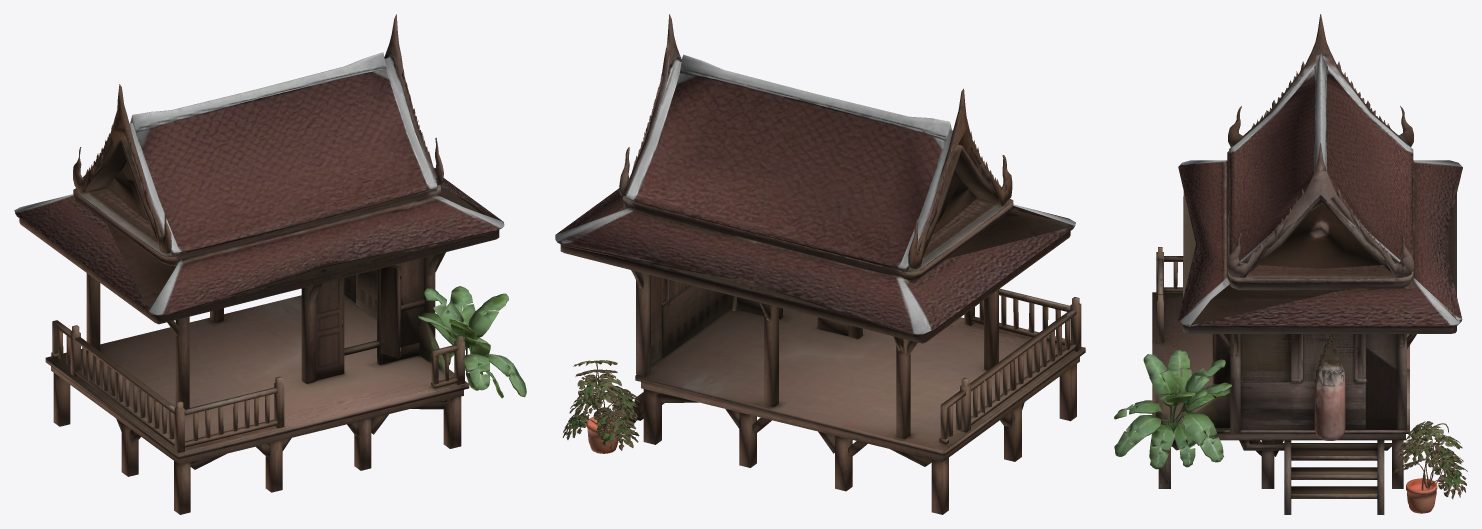
Rendered from house-japao.glb.
3 renders of one model, left to right at view 1: azimuth 30°, elevation 25°; view 2: azimuth 150°, elevation 25°; view 3: azimuth 270°, elevation 25°, orthographic. The views are drawn at different scales.
Parts seen in each view (by area): view 1: gen_muay_thai_sala_m6E5RI9C_mesh; view 2: gen_muay_thai_sala_m6E5RI9C_mesh; view 3: gen_muay_thai_sala_m6E5RI9C_mesh.
Boxes of the visible parts, box(x1,y1,x2,y2) form: gen_muay_thai_sala_m6E5RI9C_mesh: box(14, 14, 526, 514); gen_muay_thai_sala_m6E5RI9C_mesh: box(555, 14, 1085, 514); gen_muay_thai_sala_m6E5RI9C_mesh: box(1114, 14, 1467, 514).
Size of the model in its own units: 0.05 by 0.05 by 0.0443.
Materials: 1 (1 with a texture image).
